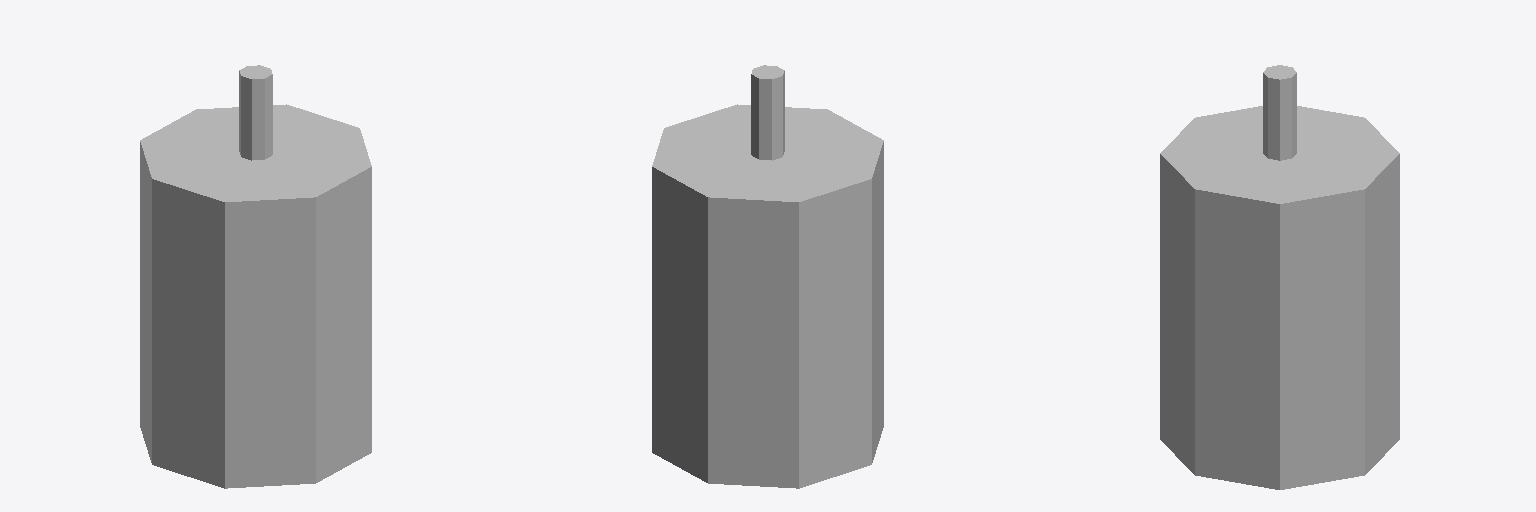
File: candle-short.obj
The picture shows the model from 3 angles: view 1: azimuth 30°, elevation 25°; view 2: azimuth 150°, elevation 25°; view 3: azimuth 270°, elevation 25°; orthographic projection.
Visible parts, largest first — view 1: candle-short; view 2: candle-short; view 3: candle-short.
Part boxes in pixels (x1,y1,x2,y2): candle-short: (140,65,371,488); candle-short: (652,65,883,488); candle-short: (1160,65,1399,489).
Size of the model in its own units: 0.247 by 0.417 by 0.247.